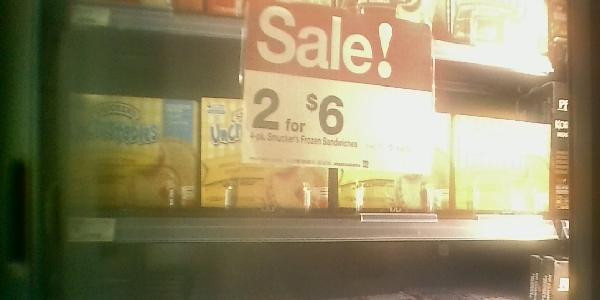icecream: (63, 91, 203, 221), (201, 97, 336, 221), (332, 98, 453, 225), (453, 112, 550, 214)
